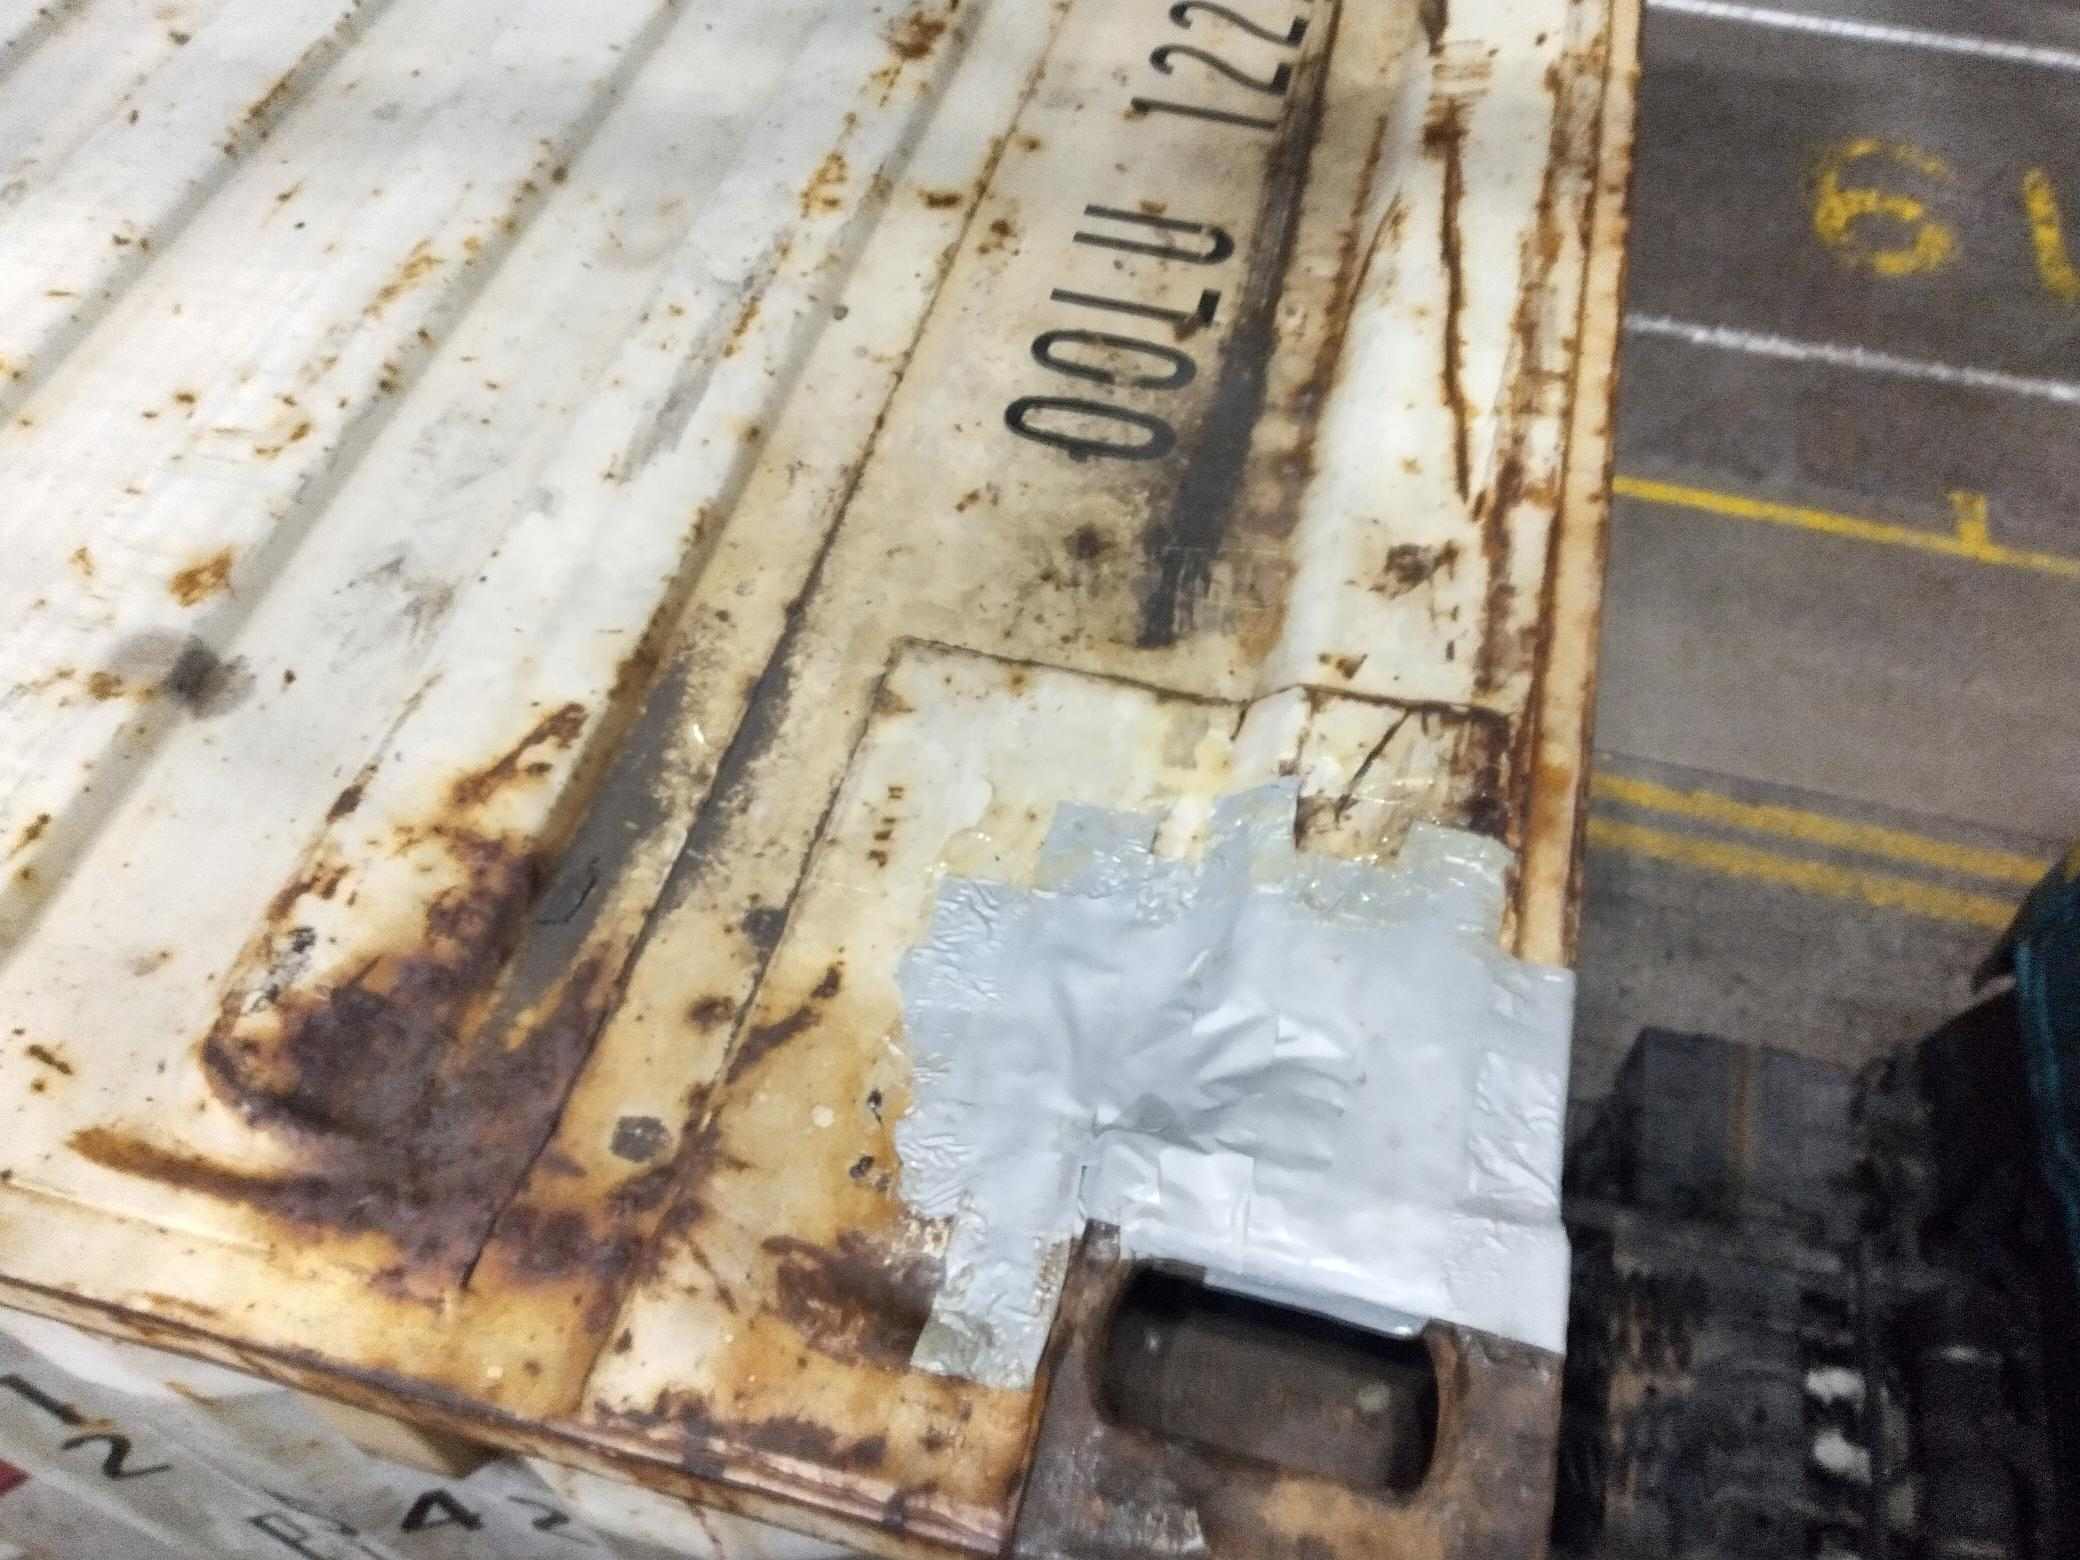rust: (211, 636, 812, 1293), (1038, 29, 1394, 655)
